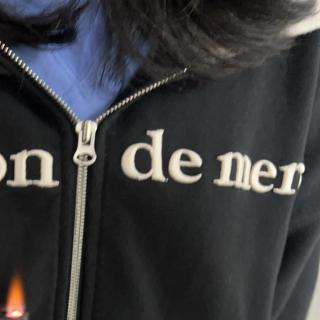fire: (5, 276, 31, 318)
